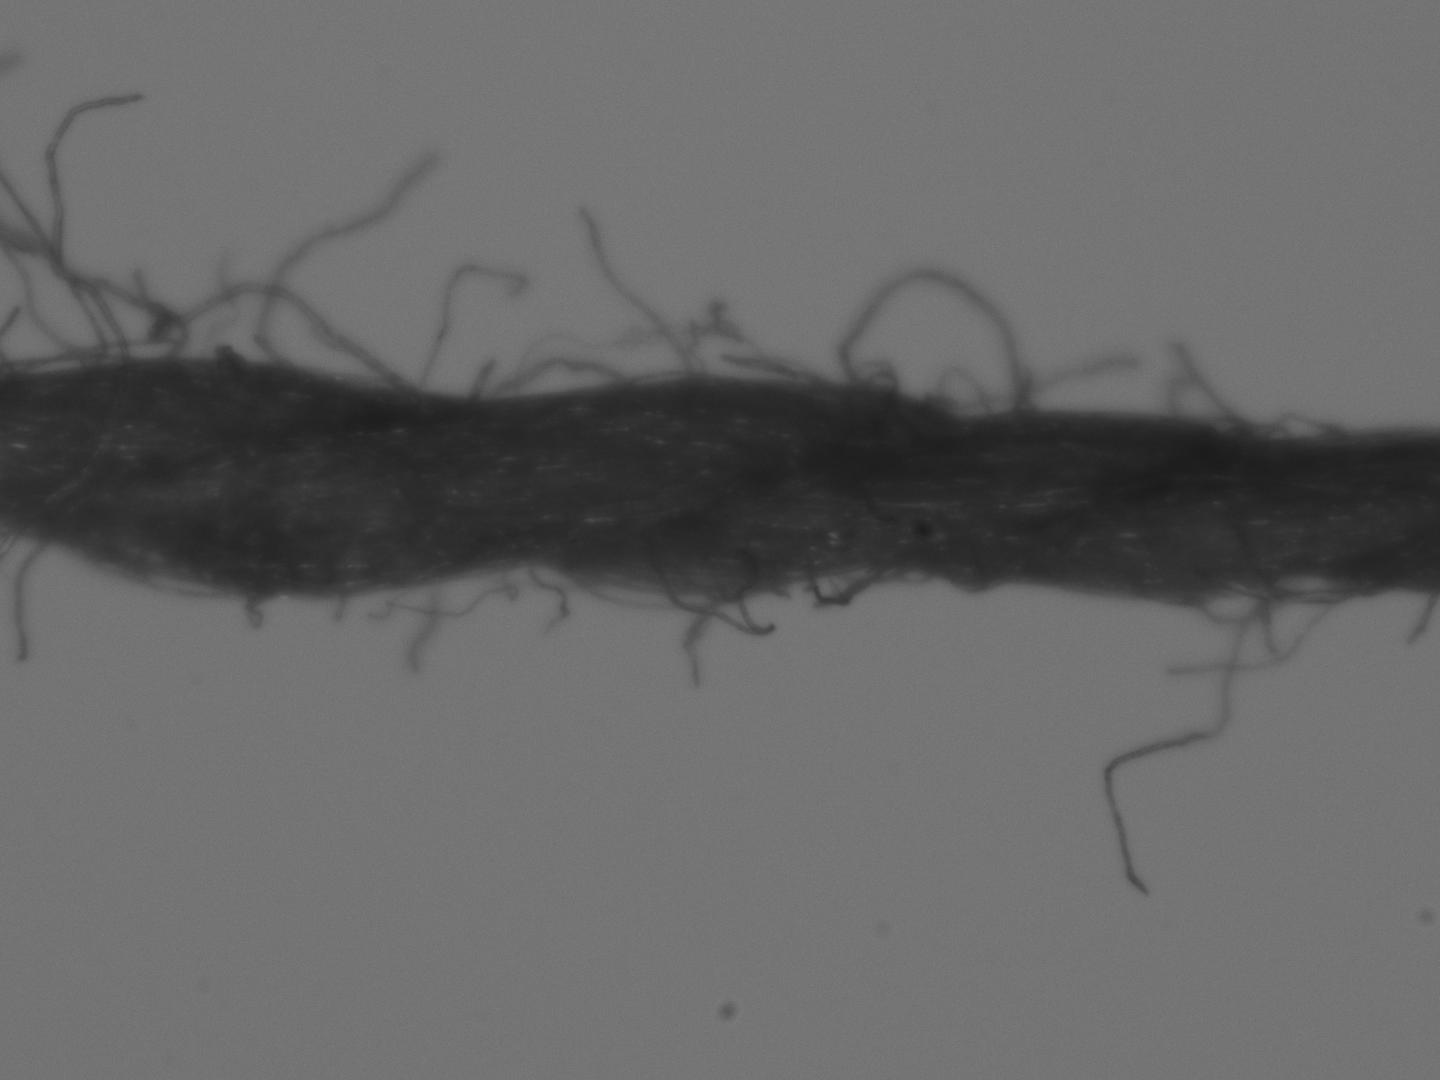loop_fiber: (2, 280, 413, 396), (494, 298, 821, 406), (837, 267, 1024, 419), (1184, 569, 1390, 663), (367, 563, 595, 623), (643, 565, 779, 635), (802, 568, 943, 605)
protruding_fiber: (1096, 576, 1286, 906), (255, 144, 440, 372), (39, 84, 145, 363), (569, 197, 706, 391), (406, 264, 534, 394), (8, 533, 52, 673)
